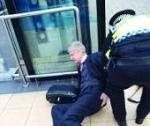falling: (37, 38, 111, 123)
